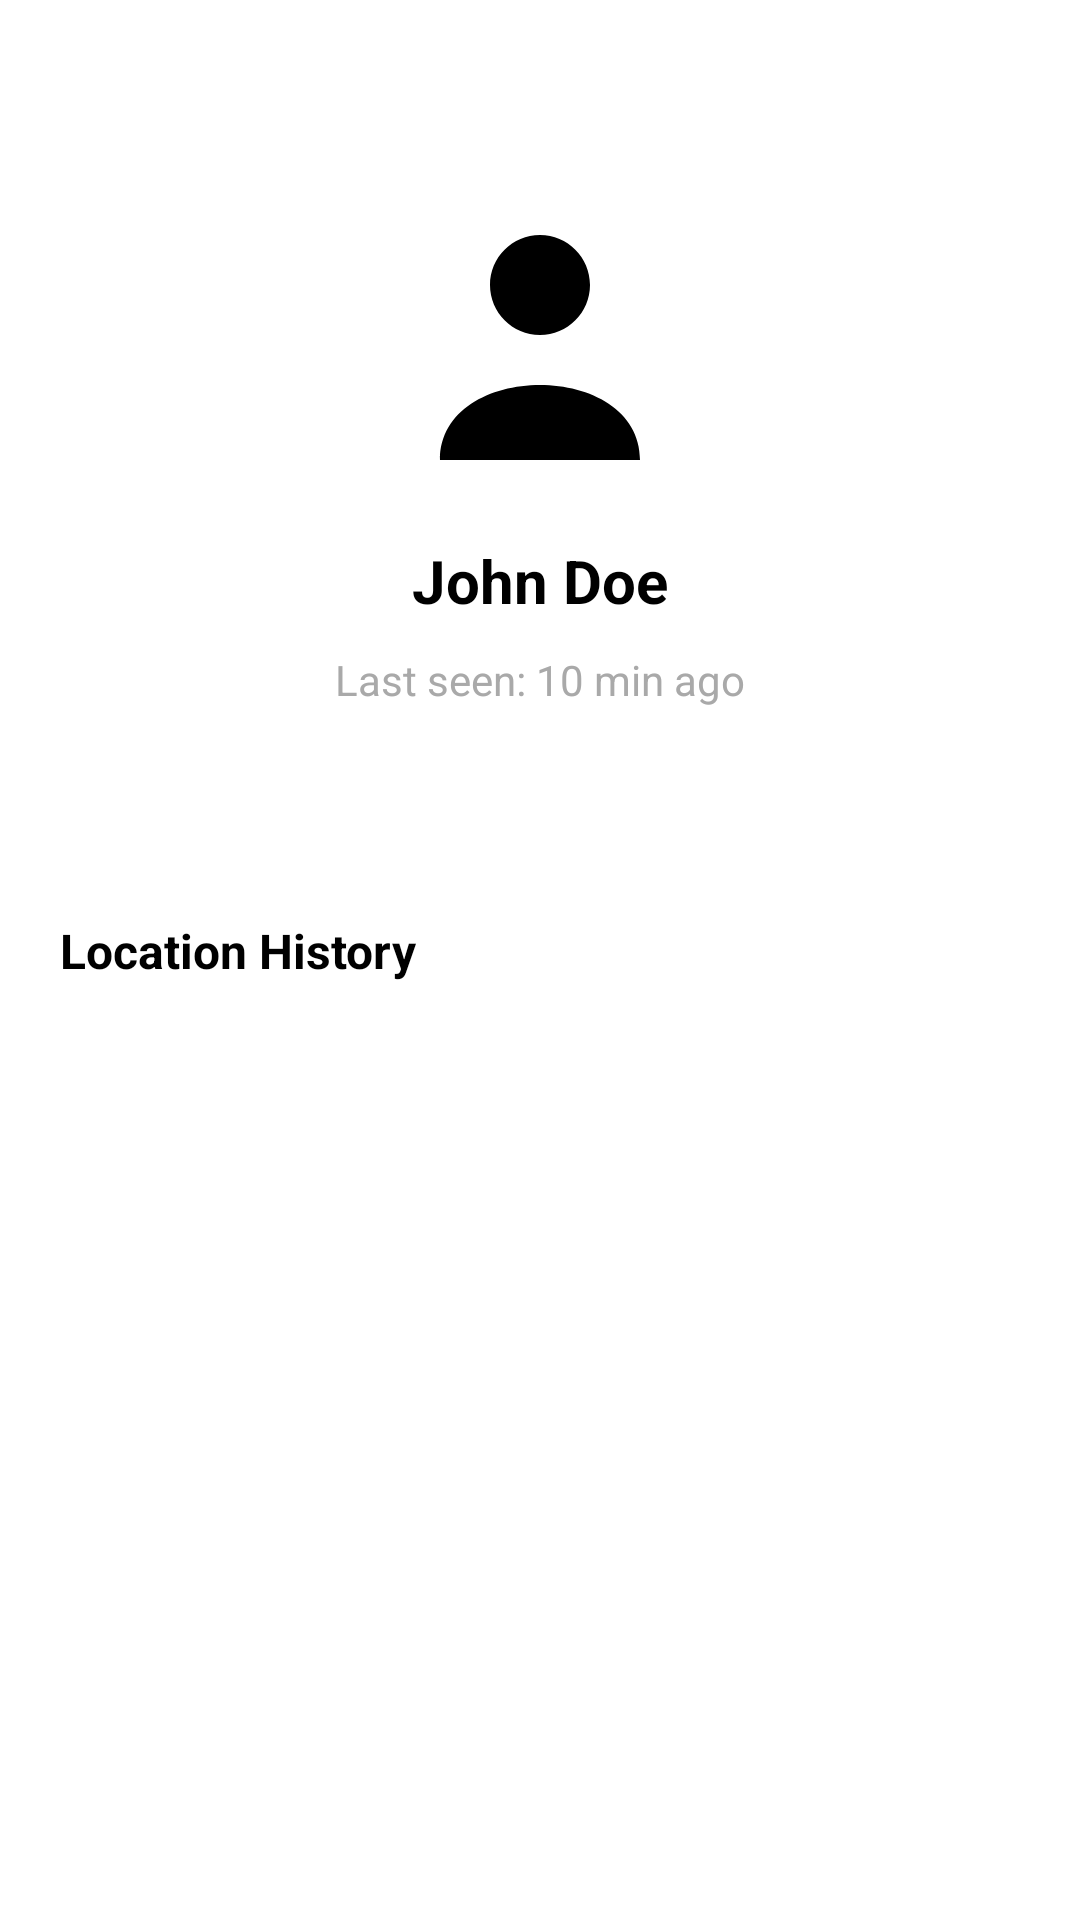

Screen size 1080 x 1920. Icon name, then its center in pixels as [x,y]:
profile: [539,347]
